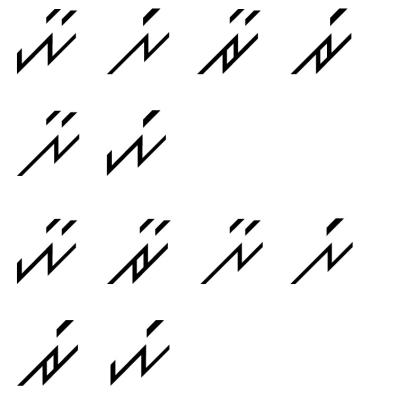lan: (201, 212, 275, 288), (10, 106, 84, 176)
lang: (286, 208, 358, 289), (104, 5, 172, 76)
ran: (104, 213, 176, 286), (195, 7, 263, 76)
rang: (13, 315, 81, 396), (282, 6, 353, 80)
yan: (4, 5, 83, 76), (7, 215, 80, 285)
yang: (96, 314, 174, 387), (100, 108, 171, 181)
